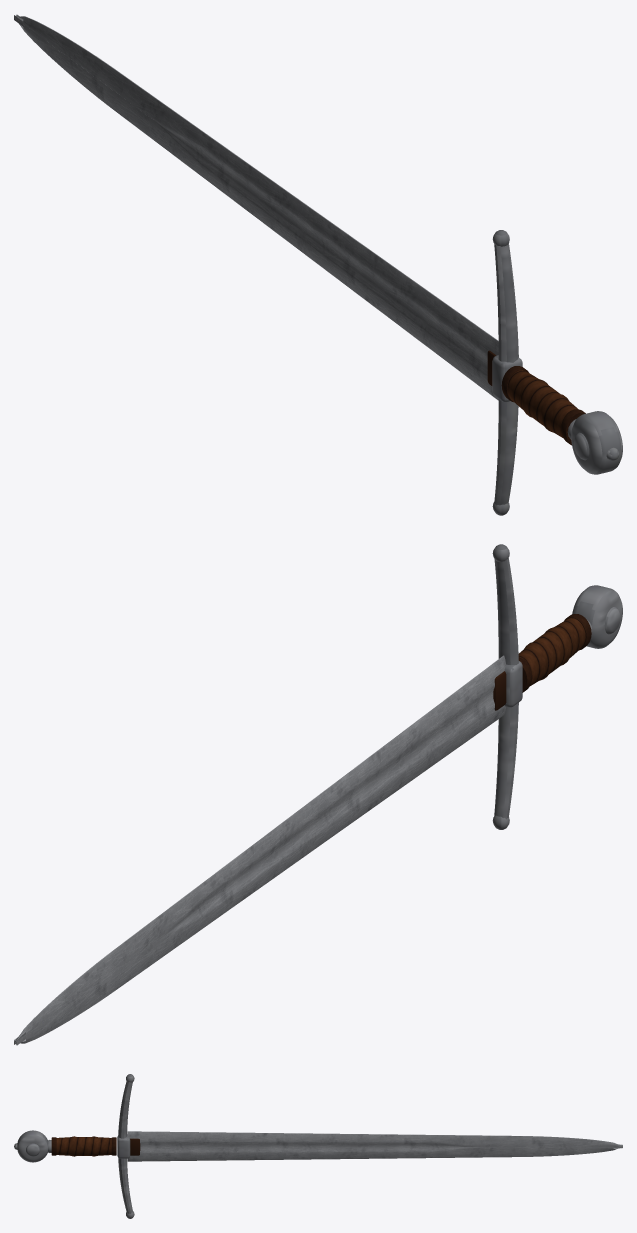
Rendered from sword.glb.
3 views of the same model, one above another, from view 1: azimuth 30°, elevation 25°; view 2: azimuth 150°, elevation 25°; view 3: azimuth 270°, elevation 25° (orthographic). The views are drawn at different scales.
Parts seen in each view (by area): view 1: sword; view 2: sword; view 3: sword.
Part boxes in pixels (<box>): sword: <box>14,14,622,515</box>; sword: <box>14,544,622,1045</box>; sword: <box>14,1074,622,1218</box>.
Size of the model in its own units: 0.0336 by 0.249 by 0.9528.
Materials: 4 (4 with a texture image).
